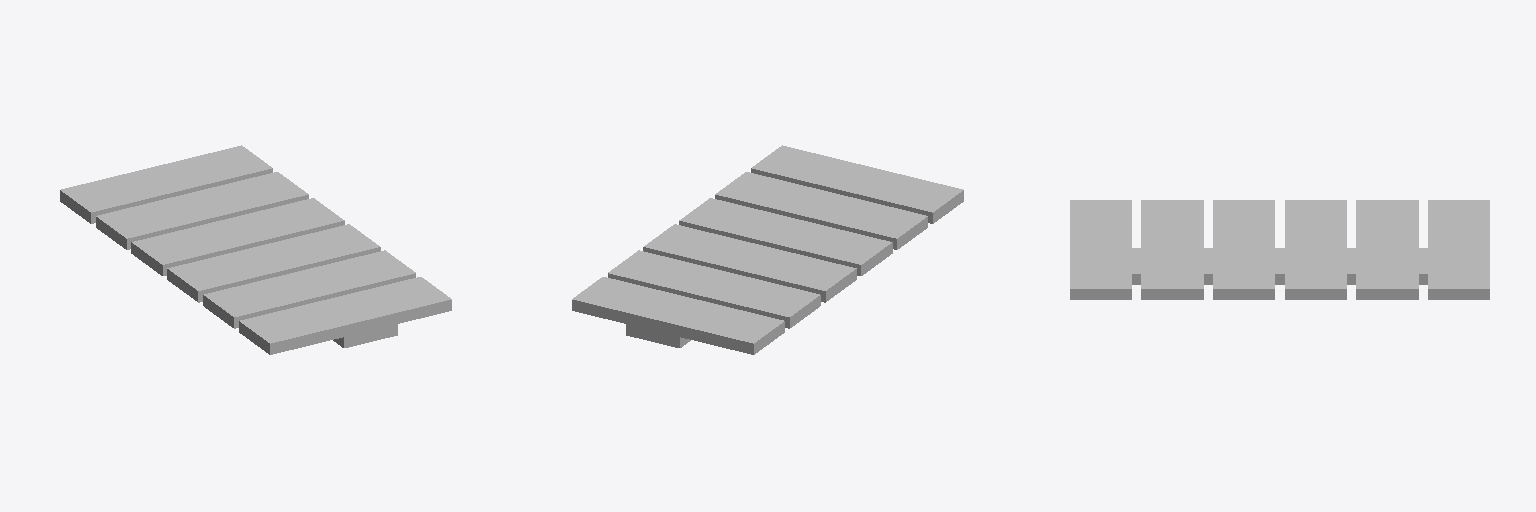
File: planks-half.obj
The picture shows the model from 3 angles: view 1: azimuth 30°, elevation 25°; view 2: azimuth 150°, elevation 25°; view 3: azimuth 270°, elevation 25°; orthographic projection.
Visible parts, largest first — view 1: planks-half; view 2: planks-half; view 3: planks-half.
Boxes of the visible parts, <box> form: planks-half: <box>60,145,451,354</box>; planks-half: <box>572,145,963,354</box>; planks-half: <box>1070,200,1489,299</box>.
Size of the model in its own units: 0.5 by 0.06 by 1.